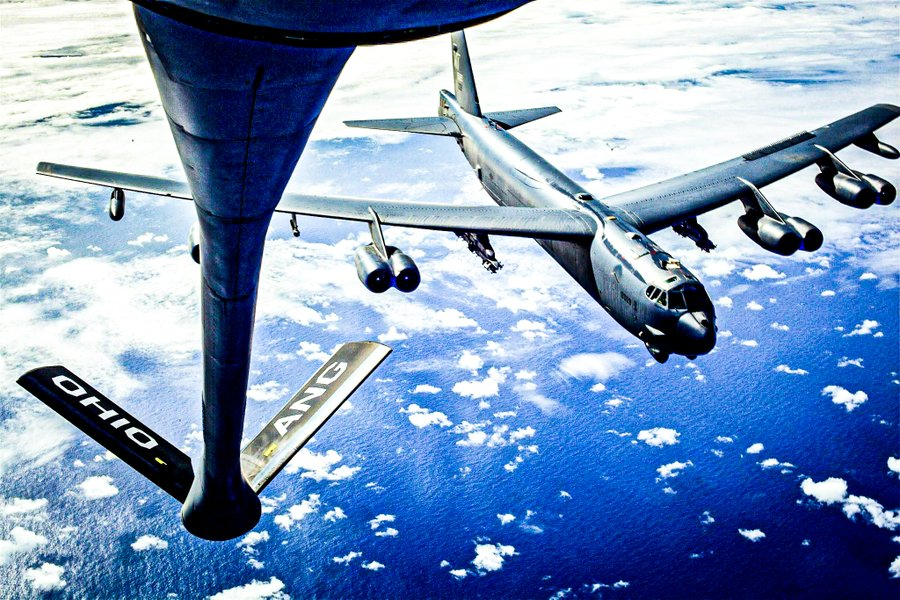B52: (35, 29, 900, 365)
